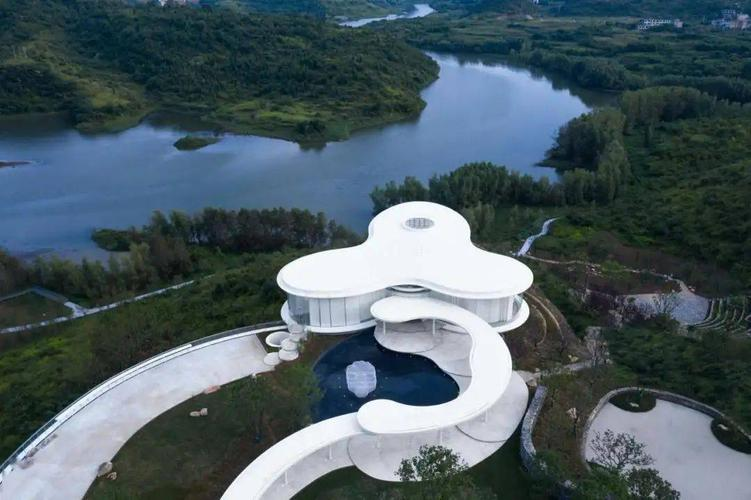mountain: (552, 98, 751, 271)
